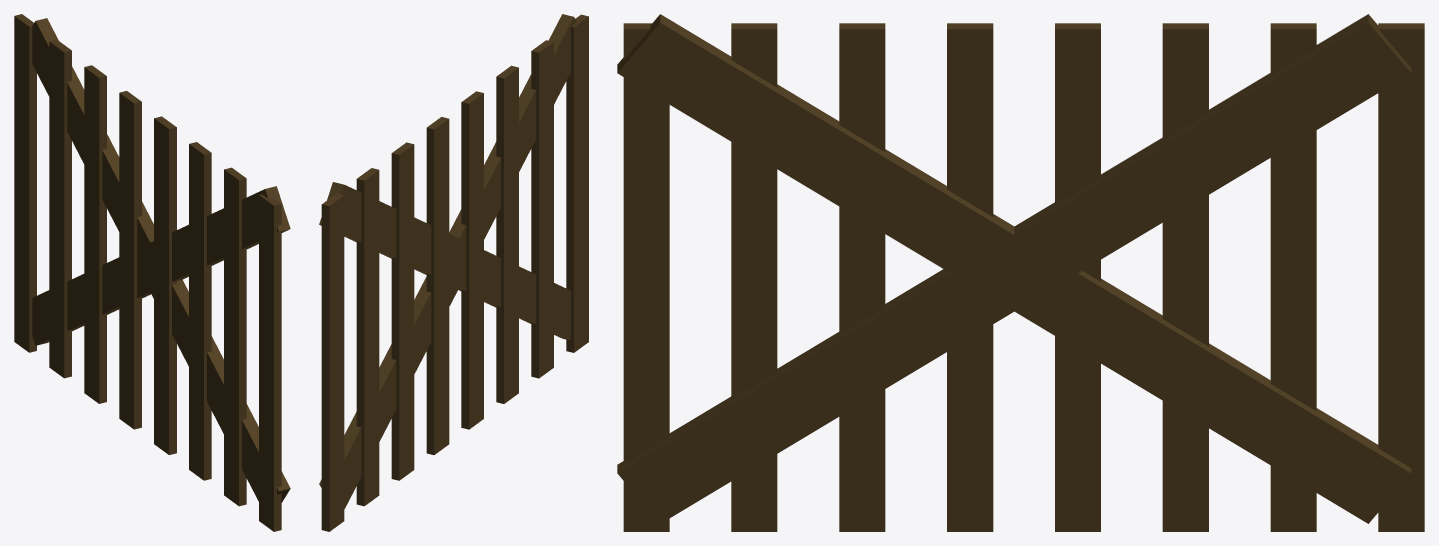
The model's file is FenceMesh.fbx.
The picture shows the model from 3 angles, left to right: view 1: azimuth 30°, elevation 25°; view 2: azimuth 150°, elevation 25°; view 3: azimuth 270°, elevation 25°; orthographic projection. The views are drawn at different scales.
Parts seen in each view (by area): view 1: Fence; view 2: Fence; view 3: Fence.
Part boxes in pixels (x1=…): Fence: x1=14, y1=14, x2=290, y2=531; Fence: x1=319, y1=14, x2=588, y2=531; Fence: x1=617, y1=14, x2=1424, y2=531.
Size of the model in its own units: 24.3 by 526 by 748.
